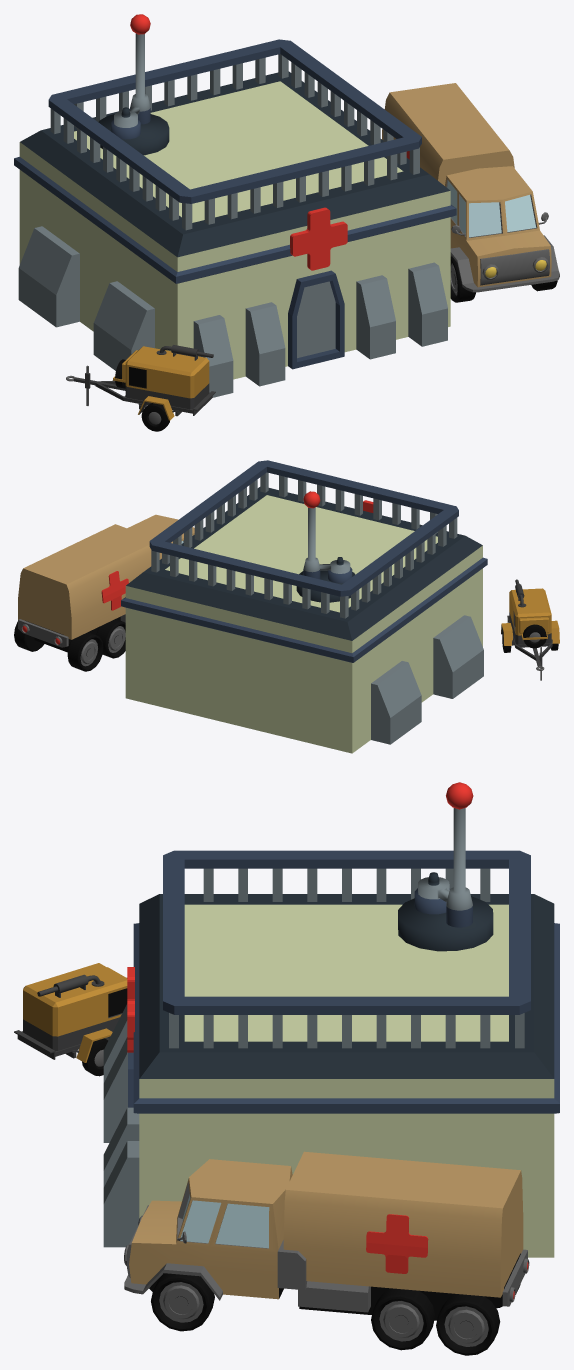
Rendered from hospital (2).fbx.
The picture shows the model from 3 angles, top to bottom: view 1: azimuth 30°, elevation 25°; view 2: azimuth 150°, elevation 25°; view 3: azimuth 270°, elevation 25°; orthographic projection. The views are drawn at different scales.
Parts seen in each view (by area): view 1: hospital, paramedical_truck, Generator; view 2: hospital, paramedical_truck, Generator; view 3: hospital, paramedical_truck, Generator.
Boxes of the visible parts, <box> form: hospital: <box>14,14,456,397</box>; paramedical_truck: <box>382,83,559,302</box>; Generator: <box>66,345,215,431</box>; hospital: <box>121,460,487,753</box>; paramedical_truck: <box>14,514,194,671</box>; Generator: <box>501,579,559,680</box>; hospital: <box>103,782,559,1257</box>; paramedical_truck: <box>124,1151,529,1355</box>; Generator: <box>14,963,127,1076</box>.
Bounding box in the file's own units: 1608 × 790 × 1105.
